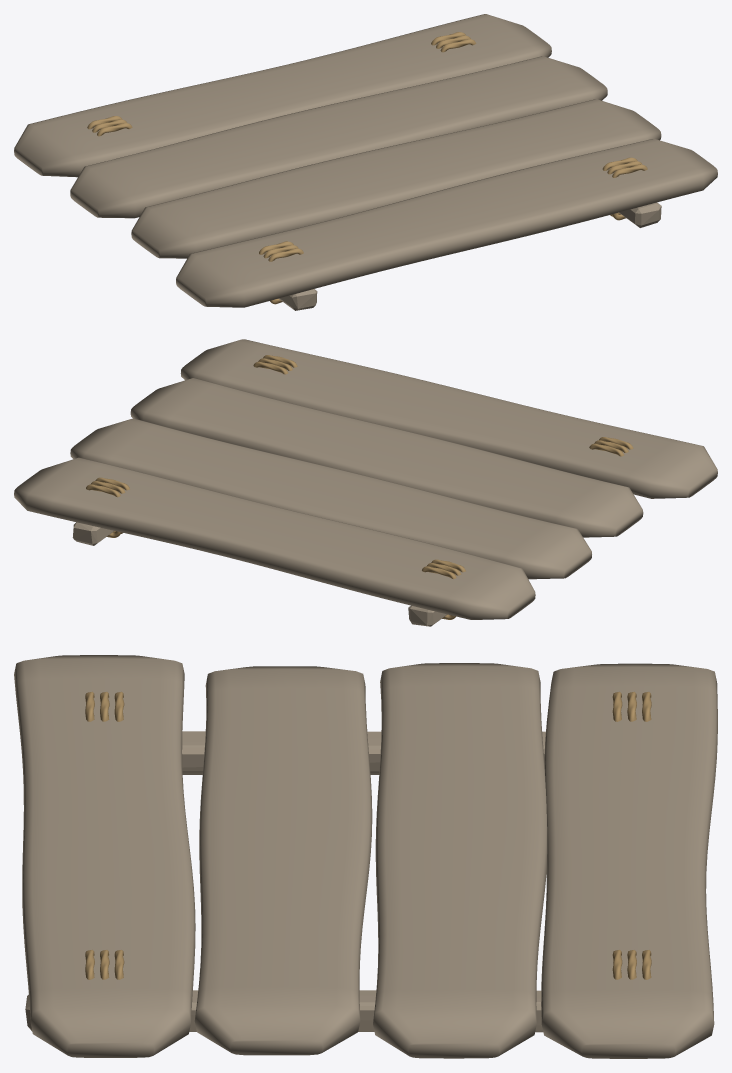
The model's file is raft.glb.
3 views of the same model, one above another, from view 1: azimuth 30°, elevation 25°; view 2: azimuth 150°, elevation 25°; view 3: azimuth 270°, elevation 25° (orthographic). The views are drawn at different scales.
Visible parts, largest first — view 1: Raft; view 2: Raft; view 3: Raft.
Part boxes in pixels (box(x1,y1,x2,y2)): Raft: box(14, 14, 717, 310); Raft: box(14, 339, 717, 626); Raft: box(14, 655, 717, 1058).
Size of the model in its own units: 3.76 by 0.35 by 2.88.
